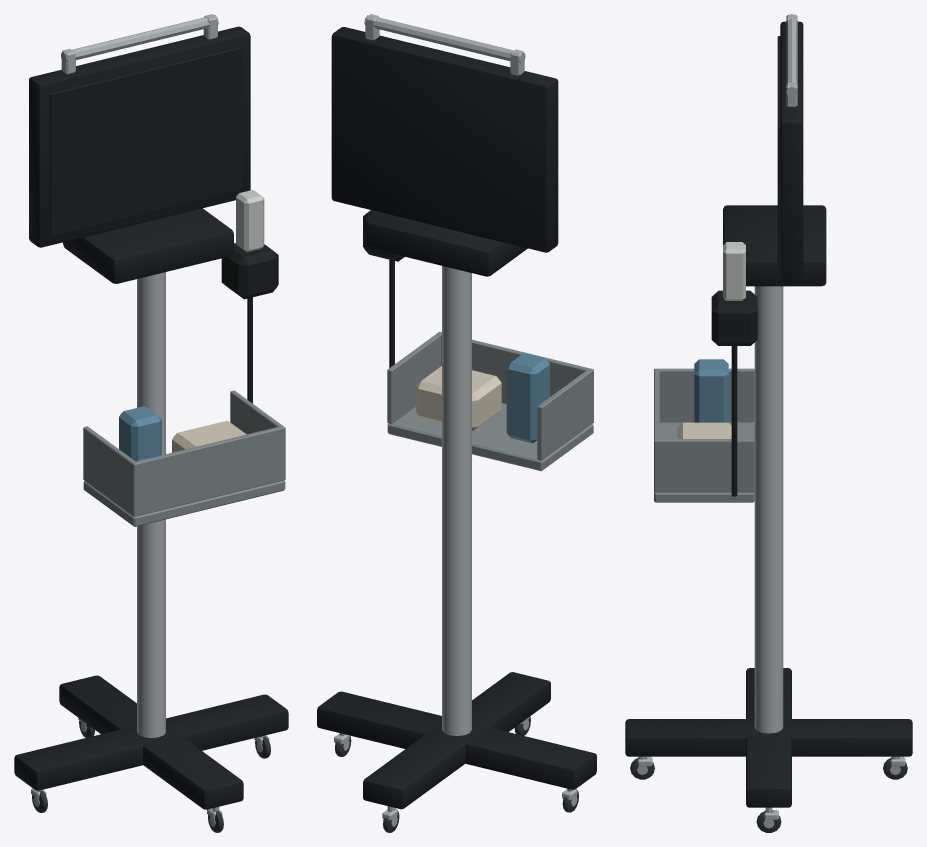
File: pocus-cart.glb
The picture shows the model from 3 angles, left to right: view 1: azimuth 30°, elevation 25°; view 2: azimuth 150°, elevation 25°; view 3: azimuth 270°, elevation 25°; orthographic projection. The views are drawn at different scales.
Visible parts, largest first — view 1: pocus-cart; view 2: pocus-cart; view 3: pocus-cart.
Part boxes in pixels (box(x1,y1,x2,y2)): pocus-cart: box(14, 14, 288, 832); pocus-cart: box(317, 14, 596, 832); pocus-cart: box(625, 14, 912, 832).
Bounding box in the file's own units: 0.5 × 1.4 × 0.5.
